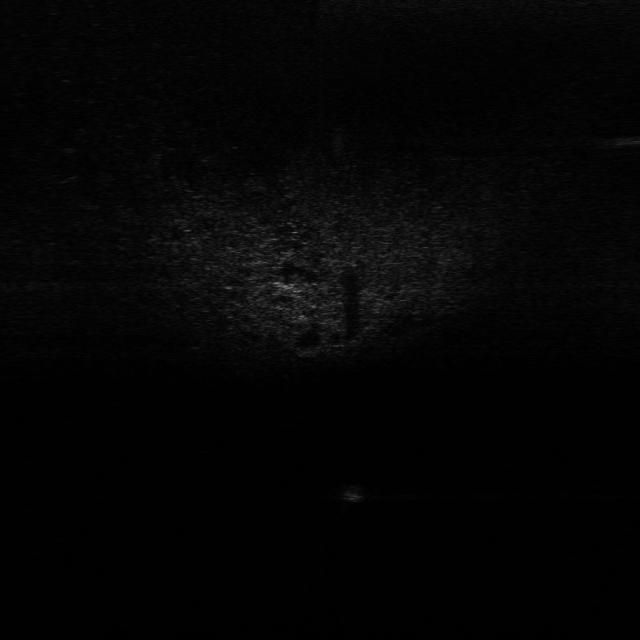cylinder: (340, 482, 360, 504)
